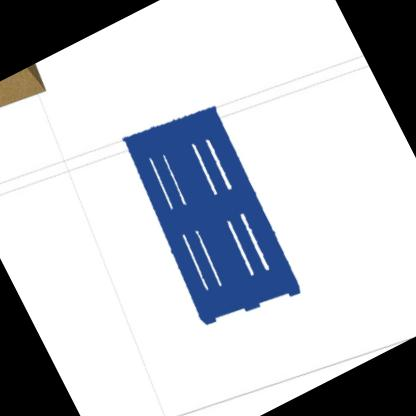BoxFace: (119, 104, 304, 329)
